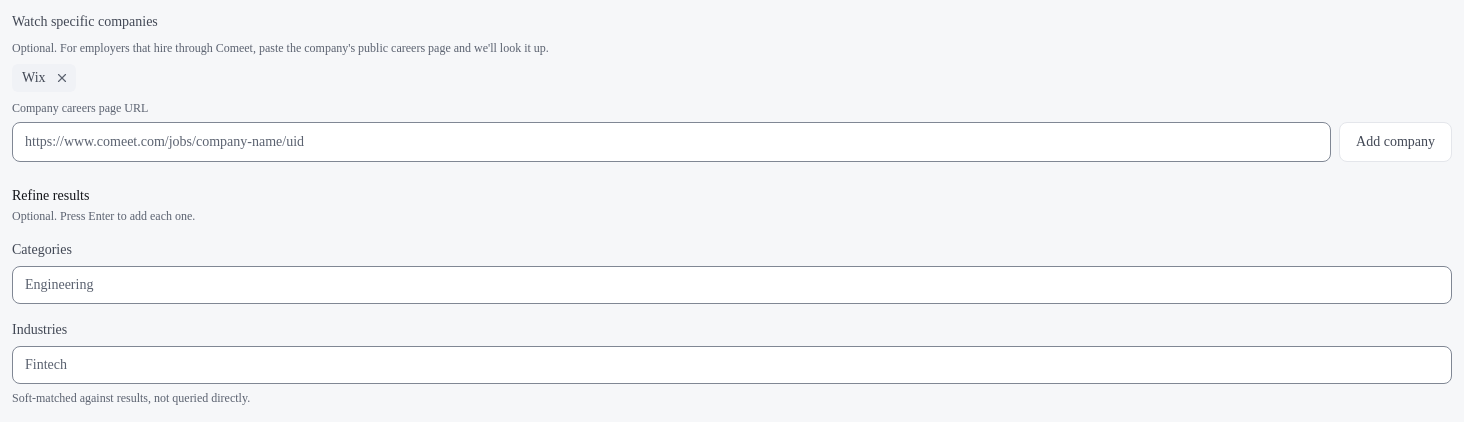
Test case: StepSources › uses the current list after the lookup, so a tag removed meanwhile stays removed
Type "https://x.test" into the field labelled "Company careers page URL".
click(672, 142); type("https://x.test")  # box [12, 122, 1331, 162]
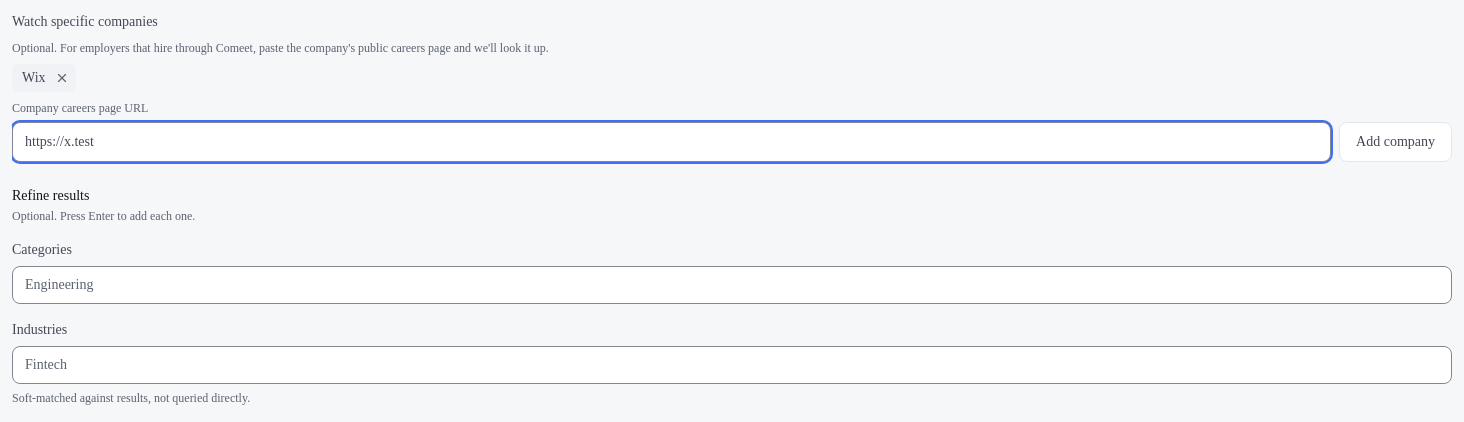
Click the button "Add company".
click(1396, 142)  # box [1339, 122, 1452, 162]
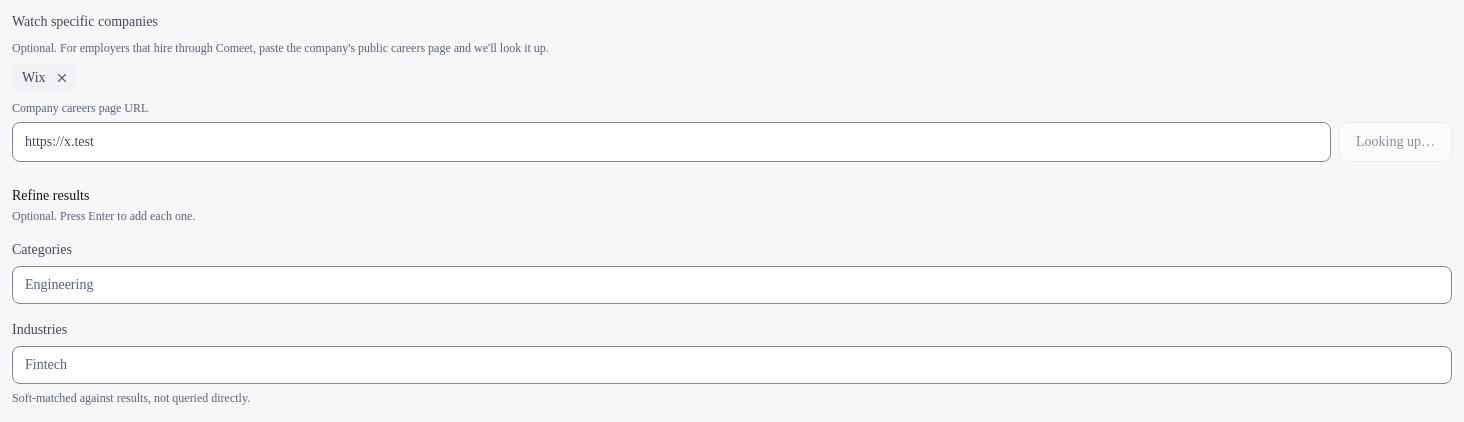
Click the button named "Remove Wix".
click(62, 78)  # box [50, 66, 74, 90]
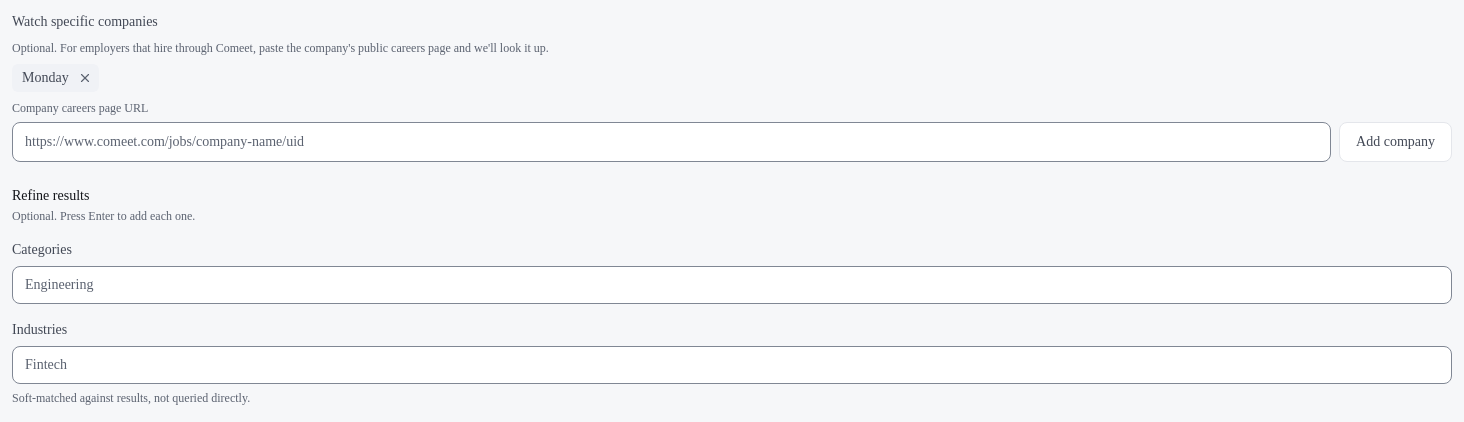
Expected: the text "Monday" is shown, [22, 68, 69, 88]
Expected: the text "Wix" is gone
